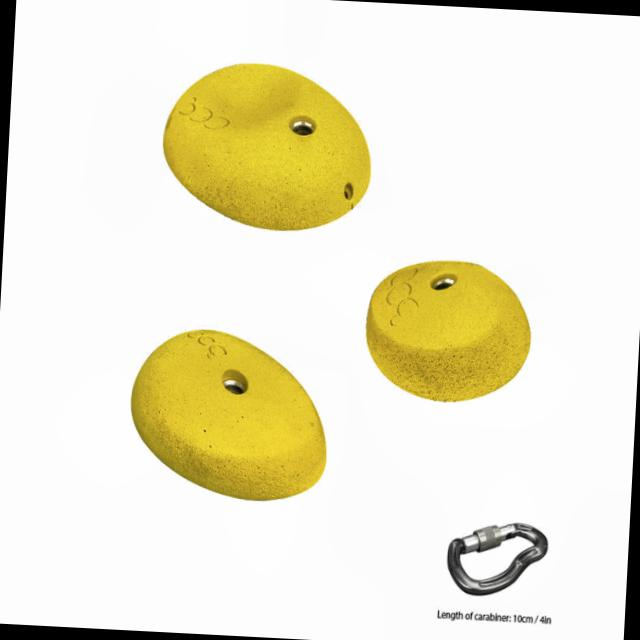Hold: (156, 60, 377, 236), (120, 327, 334, 506), (362, 258, 536, 408)
